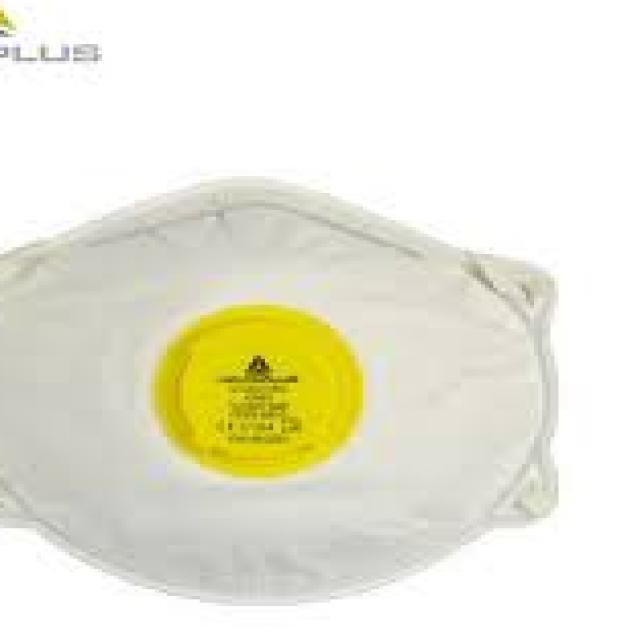organic: (0, 173, 597, 602)
